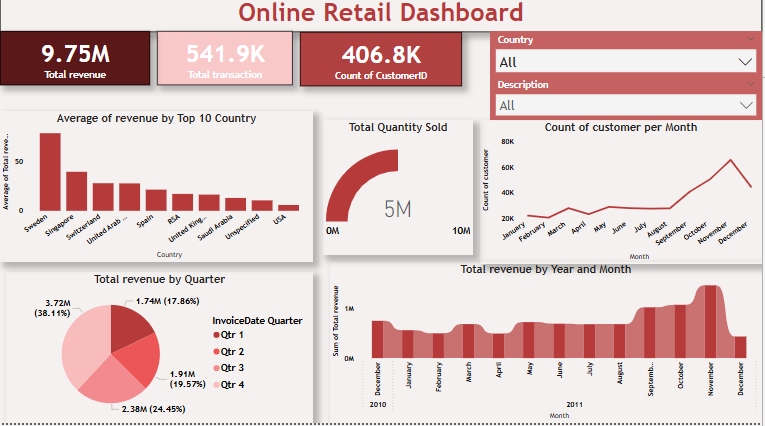

The dashboard page shown, as its layout file describes it:
{"tool":"powerbi","page":{"name":"Page 1","canvas":[1280,720],"ordinal":0},"visuals":[{"type":"textbox","box":[0,0,1280,63.8],"z":0},{"type":"card","fields":{"Values":["CountNonNull(Online Retail (2).InvoiceNo)"]},"box":[263.7,62.2,228.5,90.7],"z":1000},{"type":"card","fields":{"Values":["CountNonNull(Online Retail (2).CustomerID)"]},"box":[503.9,63.8,272.1,90.7],"z":2000},{"type":"columnChart","title":"Average of revenue by Top 10 Country","fields":{"Y":["Avg(Online Retail (2).Total revenue)"],"Category":["Online Retail (2).Country"]},"box":[0,196.5,525.8,253.6],"z":3000},{"type":"lineChart","title":"Count of customer per Month","fields":{"Y":["CountNonNull(Online Retail (2).CustomerID)"],"Category":["Online Retail (2).InvoiceDate.Variation.Date Hierarchy.Month"]},"box":[806.3,211.7,473.7,241.9],"z":4000},{"type":"ribbonChart","title":" Total revenue by Year and Month","fields":{"Category":["Online Retail (2).InvoiceDate.Variation.Date Hierarchy.Year","Online Retail (2).InvoiceDate.Variation.Date Hierarchy.Month"],"Y":["Sum(Online Retail (2).Total revenue)"]},"box":[554.3,450.2,725.7,270.4],"z":5000},{"type":"pieChart","title":" Total revenue by Quarter","fields":{"Y":["Sum(Online Retail (2).Total revenue)"],"Category":["Online Retail (2).InvoiceDate.Variation.Date Hierarchy.Quarter"]},"box":[10.1,467,515.7,253.6],"z":6000},{"type":"card","fields":{"Values":["Sum(Online Retail (2).Total revenue)"]},"box":[0,62.2,252,90.7],"z":7000},{"type":"slicer","fields":{"Values":["Online Retail (2).Country"]},"box":[823.1,62.2,456.9,75.6],"z":8000},{"type":"slicer","fields":{"Values":["Online Retail (2).Description"]},"box":[823.1,137.7,456.9,73.9],"z":9000},{"type":"gauge","title":"Total Quantity Sold","fields":{"Y":["Sum(Online Retail (2).Quantity)"]},"box":[542.6,211.7,252,226.8],"z":10000}]}

Visuals, with their boxes in screenshot pixels (x1, y1, x2, y2), scaled from the page's 1280x720 canvas onto the 765x426 screenshot:
textbox: {"x1": 0, "y1": 0, "x2": 764, "y2": 38}
card - CountNonNull(Online Retail (2).InvoiceNo): {"x1": 158, "y1": 37, "x2": 294, "y2": 90}
card - CountNonNull(Online Retail (2).CustomerID): {"x1": 301, "y1": 38, "x2": 464, "y2": 91}
"Average of revenue by Top 10 Country" columnChart: {"x1": 0, "y1": 116, "x2": 314, "y2": 266}
"Count of customer per Month" lineChart: {"x1": 482, "y1": 125, "x2": 764, "y2": 268}
" Total revenue by Year and Month" ribbonChart: {"x1": 331, "y1": 266, "x2": 764, "y2": 425}
" Total revenue by Quarter" pieChart: {"x1": 6, "y1": 276, "x2": 314, "y2": 425}
card - Sum(Online Retail (2).Total revenue): {"x1": 0, "y1": 37, "x2": 151, "y2": 90}
slicer - Online Retail (2).Country: {"x1": 492, "y1": 37, "x2": 764, "y2": 82}
slicer - Online Retail (2).Description: {"x1": 492, "y1": 81, "x2": 764, "y2": 125}
"Total Quantity Sold" gauge: {"x1": 324, "y1": 125, "x2": 475, "y2": 259}
